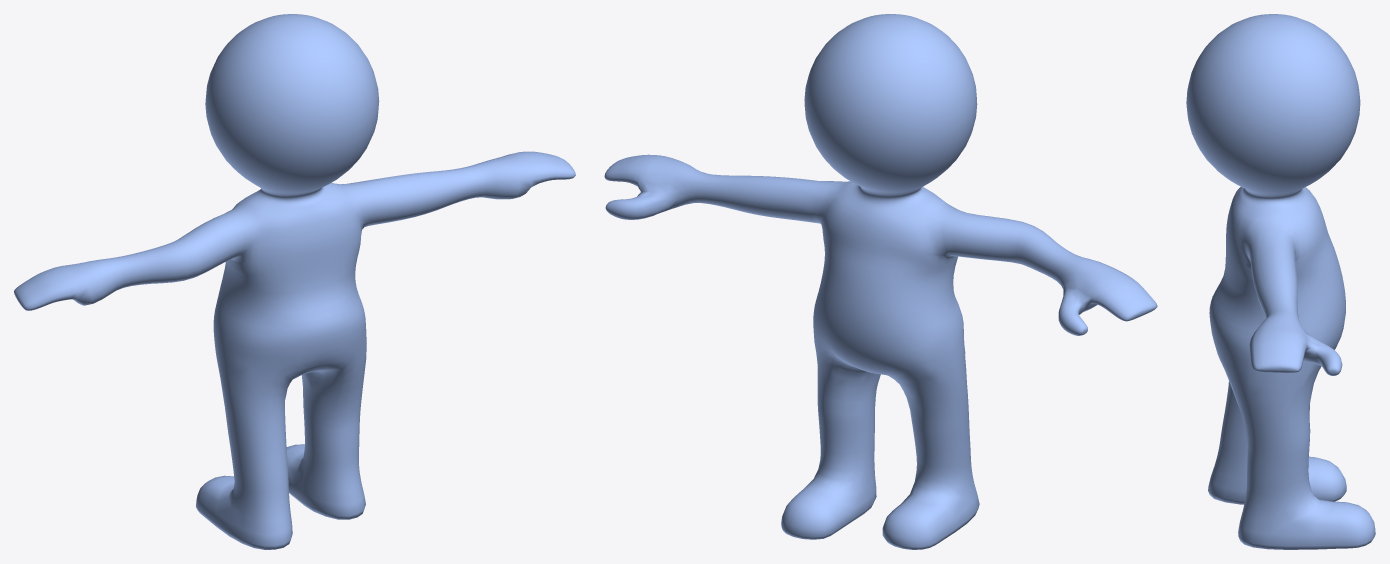
The model's file is Person.fbx.
The picture shows the model from 3 angles, left to right: view 1: azimuth 30°, elevation 25°; view 2: azimuth 150°, elevation 25°; view 3: azimuth 270°, elevation 25°; orthographic projection.
Visible parts, largest first — view 1: body; view 2: body; view 3: body.
Part boxes in pixels (x1,y1,x2,y2): body: (14, 14, 575, 549); body: (604, 14, 1157, 549); body: (1186, 14, 1375, 549).
Size of the model in its own units: 6509 by 5665 by 1957.
